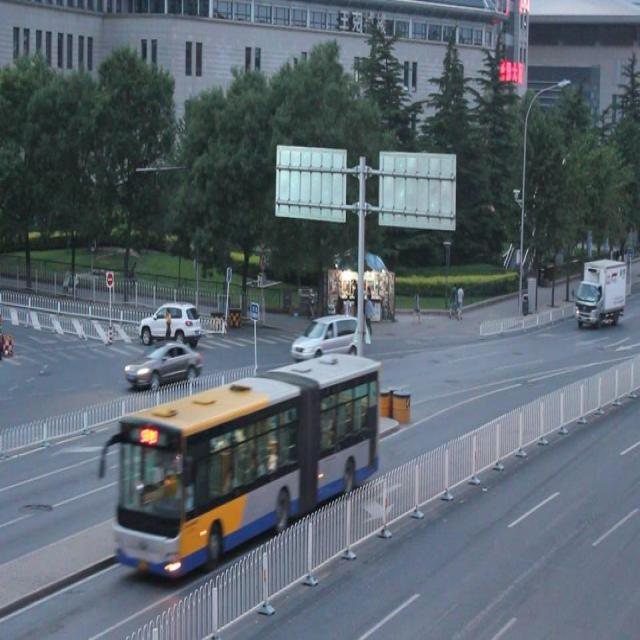bus: (575, 258, 627, 324)
car: (125, 341, 202, 386), (139, 301, 201, 350), (292, 315, 362, 357)
van: (116, 352, 380, 577)
